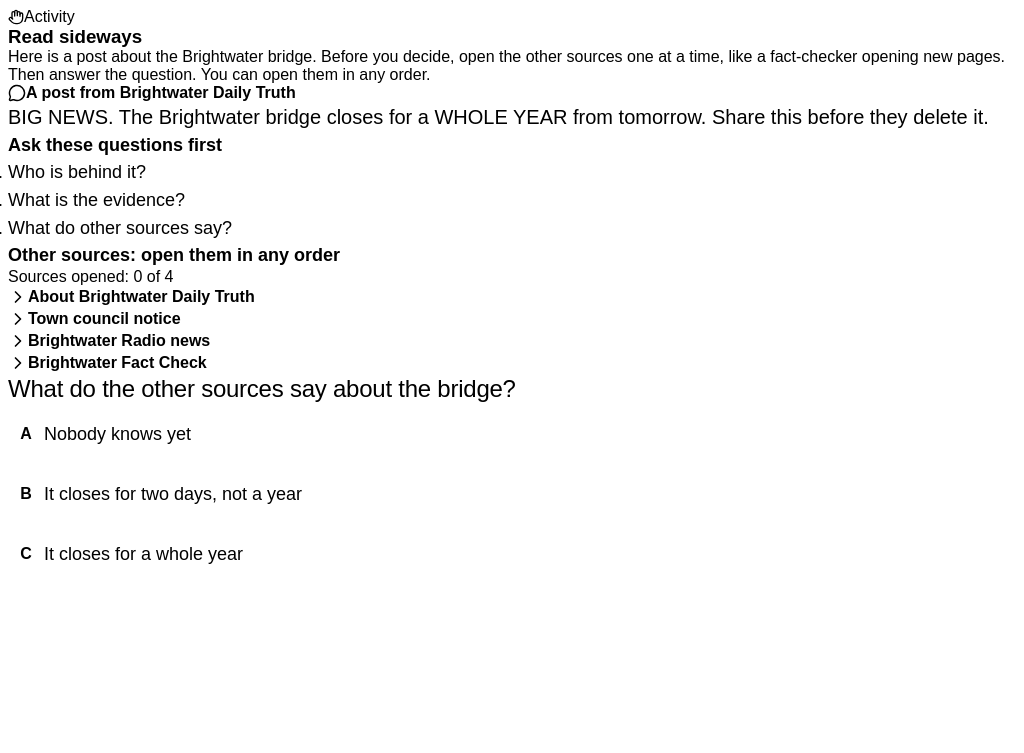
Scenario: check-claim (Lesson 5) › opens the sources in any order with a tap, and never locks the question behind them
This screenshot has width=1024, height=753.
Expected: the element named "What do the other sources say about the bridge?" is shown, [8, 404, 1016, 584]
Expected: the text "Sources opened: 0 of 4" is shown, [8, 268, 174, 285]
Step 1. Click the button "Town council notice" → (104, 318), box [8, 308, 1016, 330]
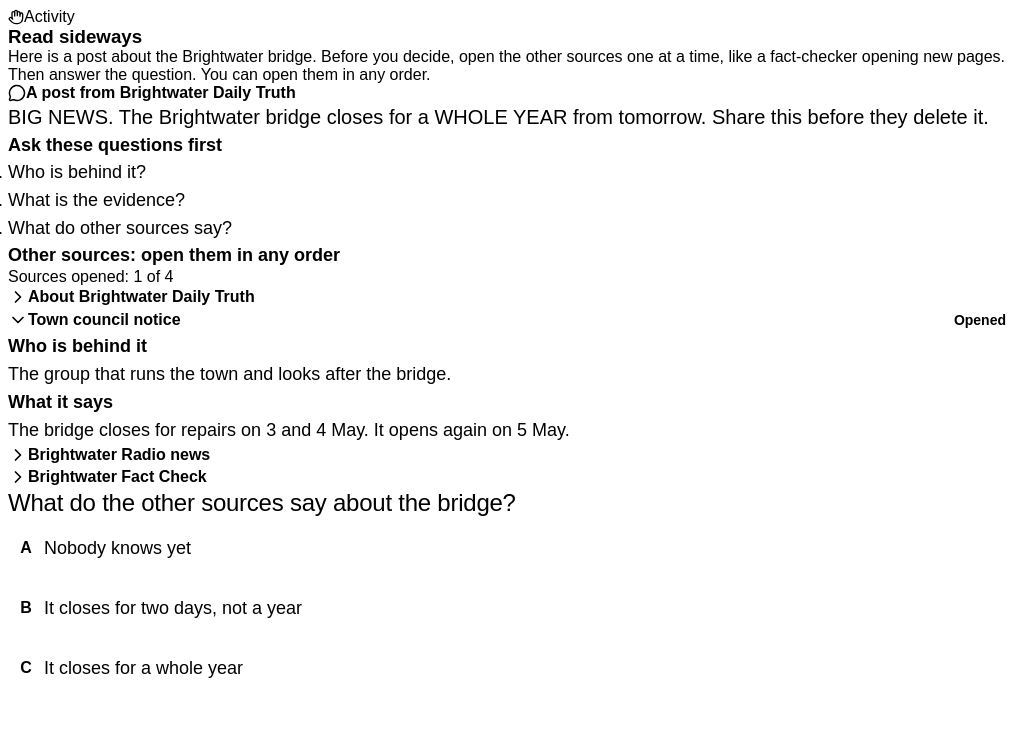
Expected: the button "Town council notice Opened" is expanded, [8, 308, 1016, 332]
Expected: the text "The bridge closes for repairs on 3 and 4 May. It opens again on 5 May." is shown, [8, 420, 570, 440]
Expected: the text "Sources opened: 1 of 4" is shown, [8, 268, 174, 285]
Step 2. Click the button "Brightwater Fact Check" → (117, 476), box [8, 466, 1016, 488]
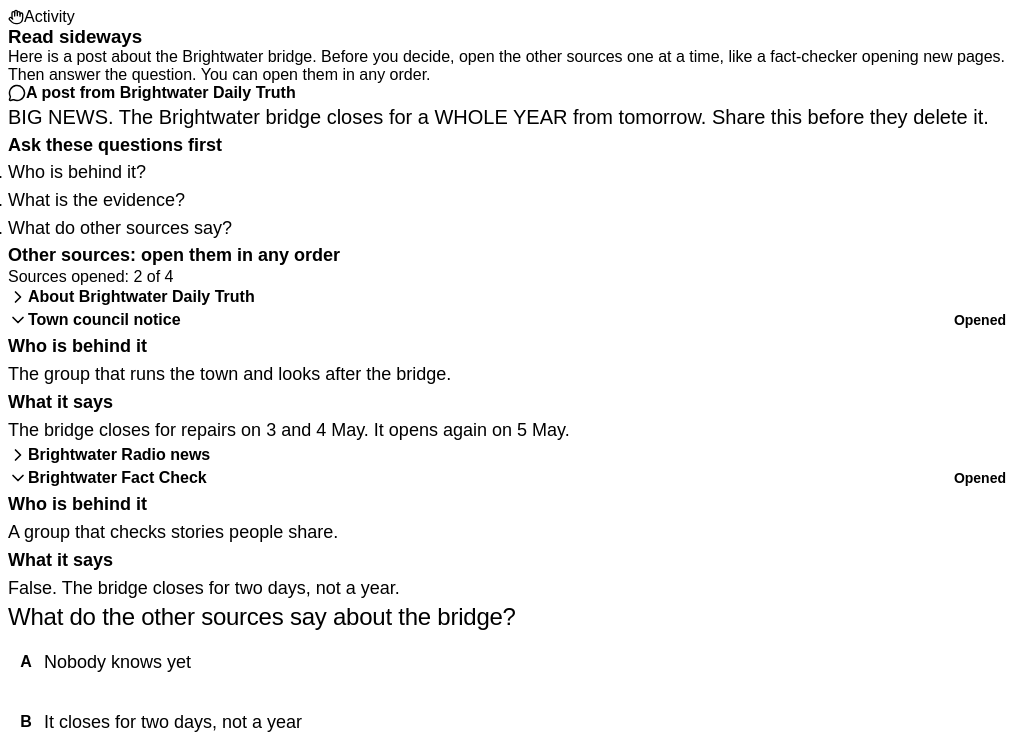
Note: Closing a source keeps it counted as opened.
Step 3. Click the button "Town council notice Opened" → (104, 320), box [8, 308, 1016, 332]
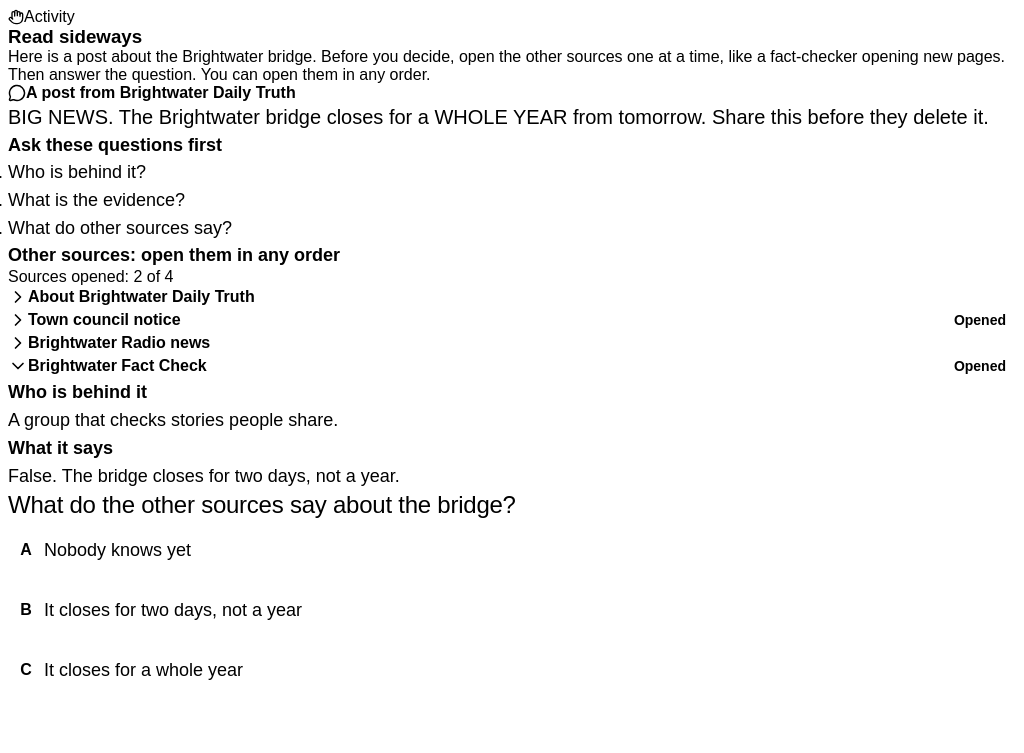
Expected: the 1st text "Opened" is shown, [954, 312, 1006, 328]
Expected: the button "Town council notice Opened" is collapsed, [8, 308, 1016, 332]
